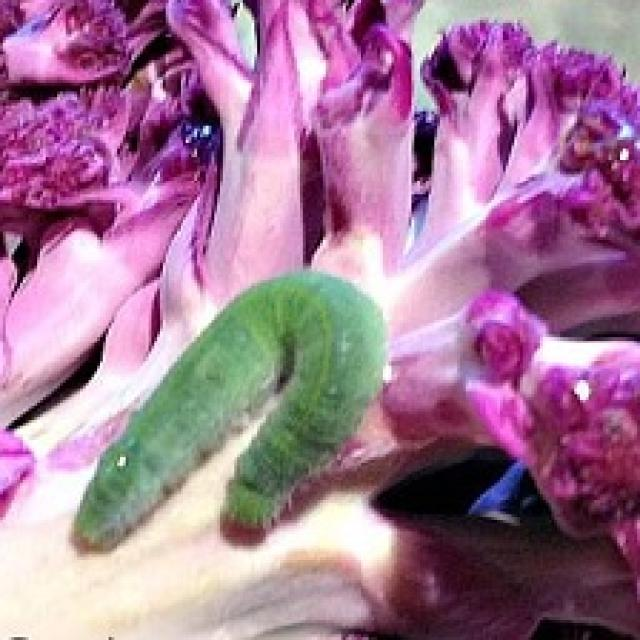Cabbage-worm: (73, 270, 375, 558)
